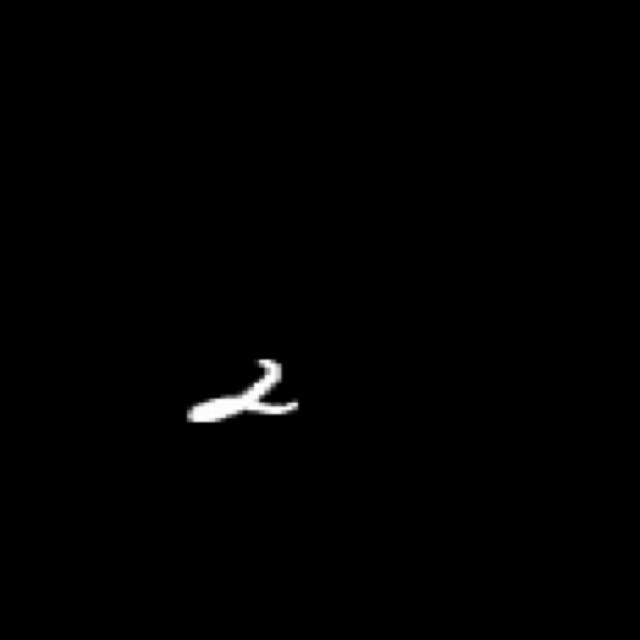two -2-: (172, 342, 307, 437)
